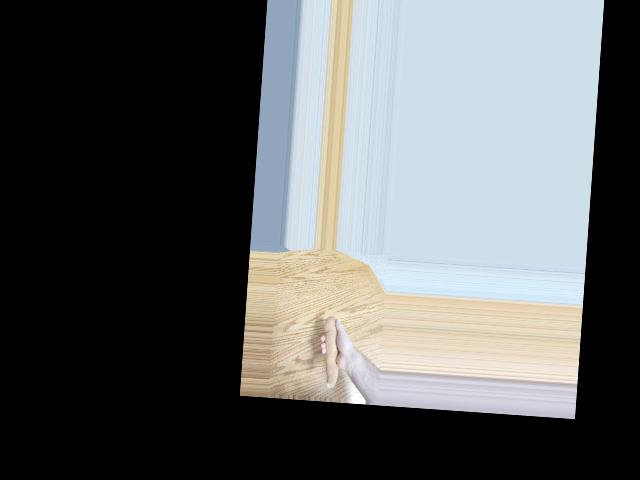sweet_potato: (318, 314, 348, 391)
